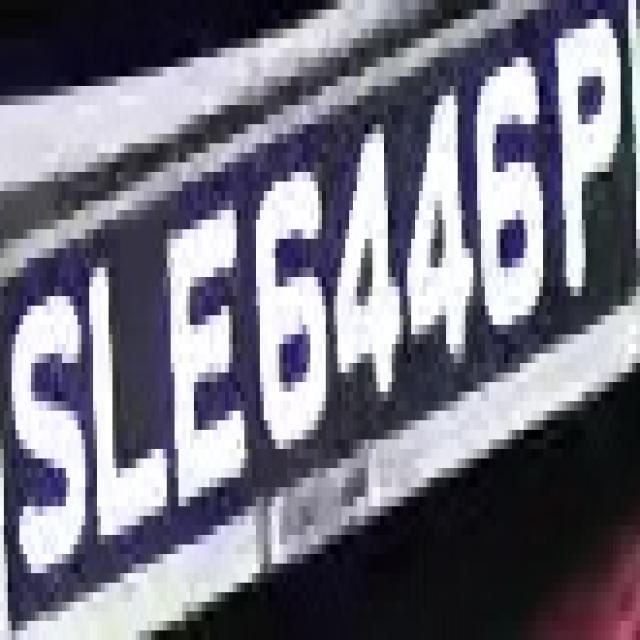4: (322, 114, 411, 458), (403, 95, 489, 430)
6: (240, 124, 330, 478), (465, 38, 551, 363)
E: (155, 201, 256, 554)
L: (89, 248, 175, 554)
P: (547, 9, 632, 306)
S: (8, 248, 89, 602)
